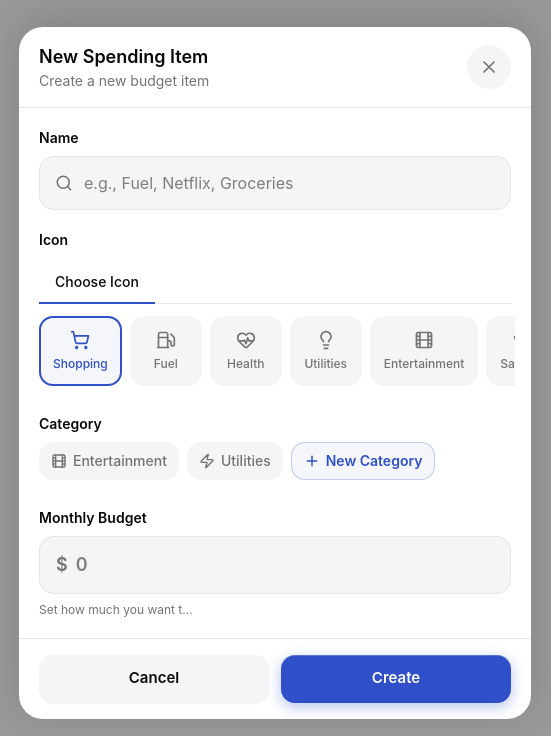
Test case: SpendingItemEditPopin — conflict safety net › names the month in the active-conflict state
Type "Internet 2" into the dropdown labelled "Name".
click(275, 183); type("Internet 2")  # box [39,156,511,210]
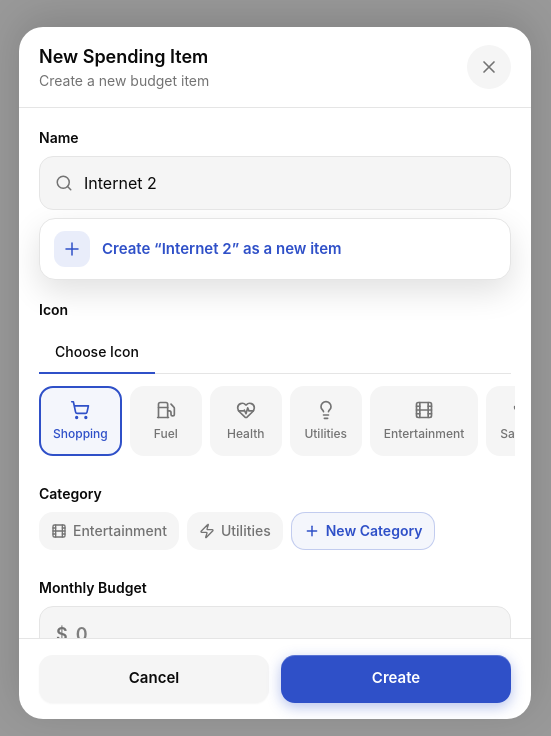
Type "20" into the number field named "Monthly budget amount".
click(285, 635); type("20")  # box [76,607,494,663]
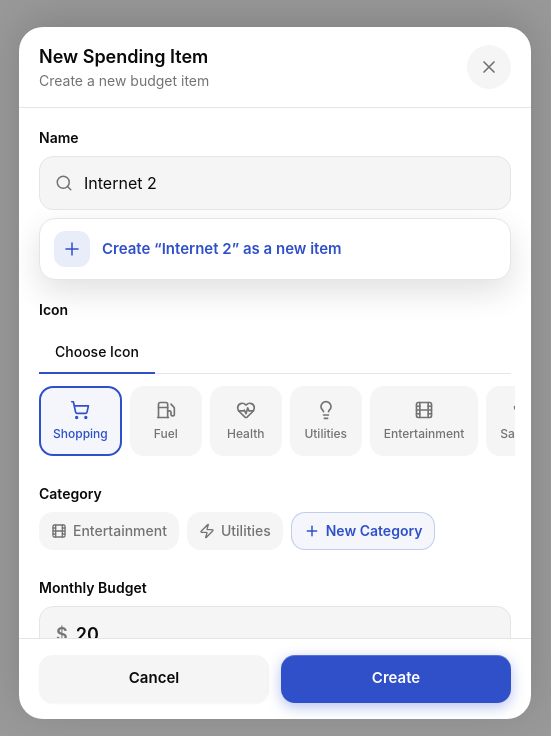
Click the radio button labelled "Utilities".
click(235, 531)  # box [187,512,283,550]
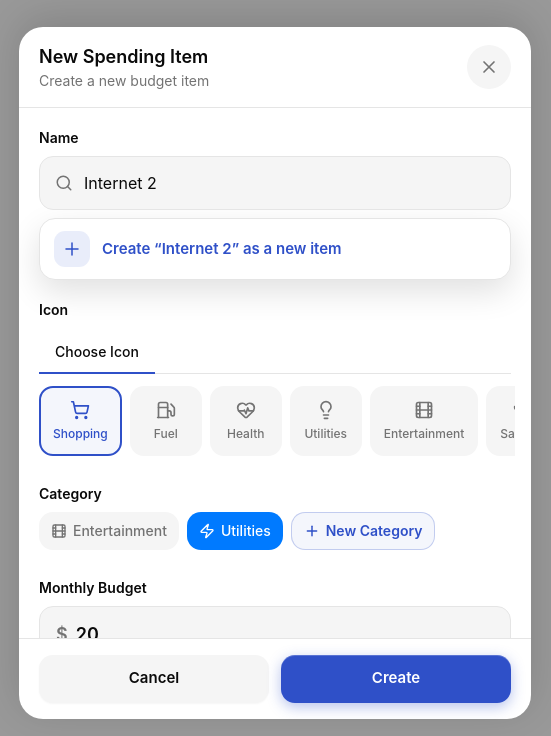
Click the button "Create".
click(396, 679)  # box [281,655,511,703]
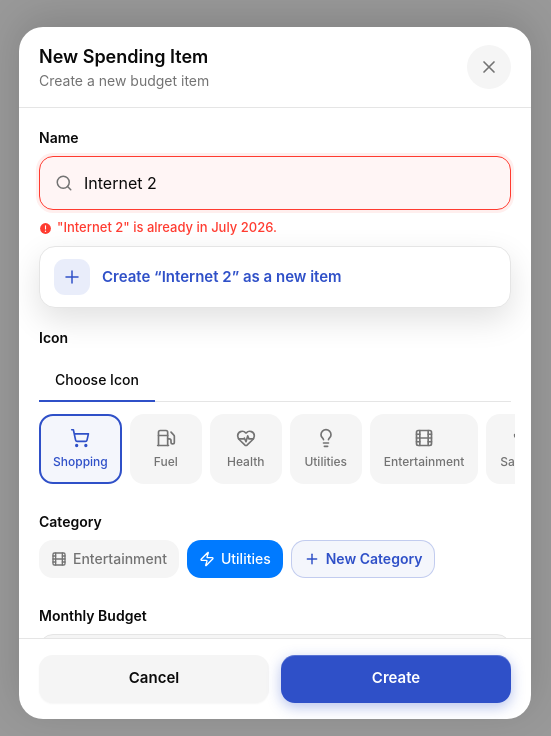
expect the message "\"Internet 2\" is already in July 2026." is shown: met, box [39,219,277,235]
expect the message shows "already in July 2026": met, box [57,219,277,235]
